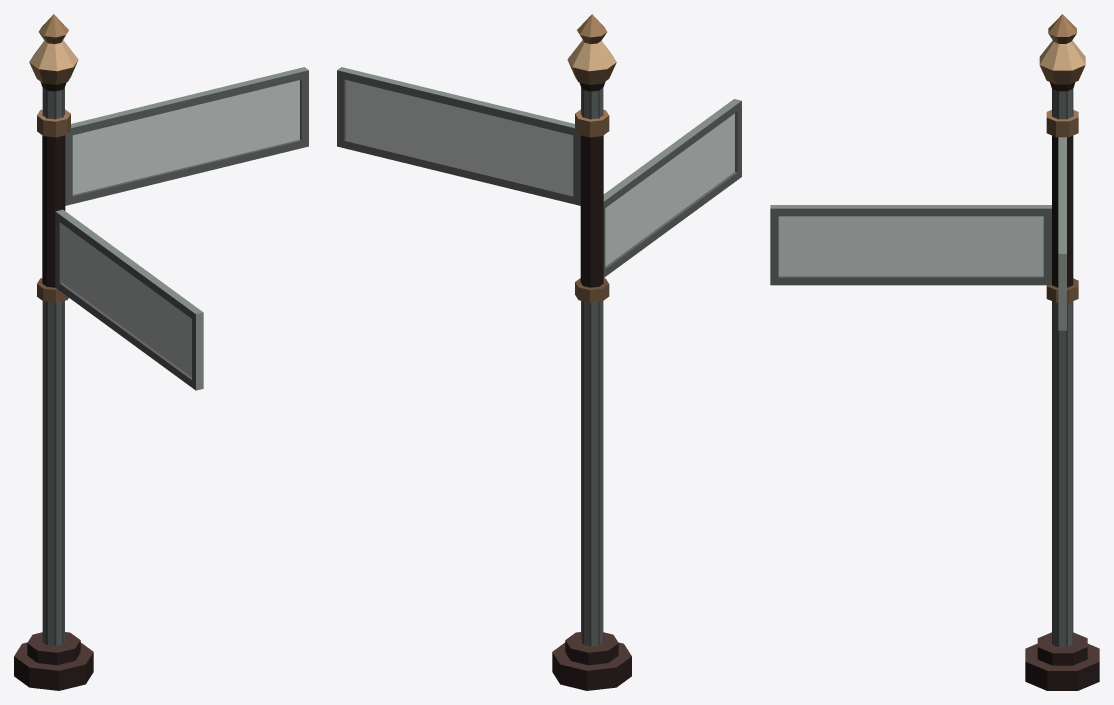
The model's file is SignPost_Street_Names.glb.
3 renders of one model, left to right at view 1: azimuth 30°, elevation 25°; view 2: azimuth 150°, elevation 25°; view 3: azimuth 270°, elevation 25°, orthographic.
Visible parts, largest first — view 1: SignPoestCity_01; view 2: SignPoestCity_01; view 3: SignPoestCity_01.
Boxes of the visible parts, <box> form: SignPoestCity_01: <box>14,14,308,690</box>; SignPoestCity_01: <box>337,14,741,690</box>; SignPoestCity_01: <box>770,14,1099,690</box>.
Size of what is drawn, in the model's own units: 1.2 by 2.65 by 1.2.
1 material, 1 textured.
